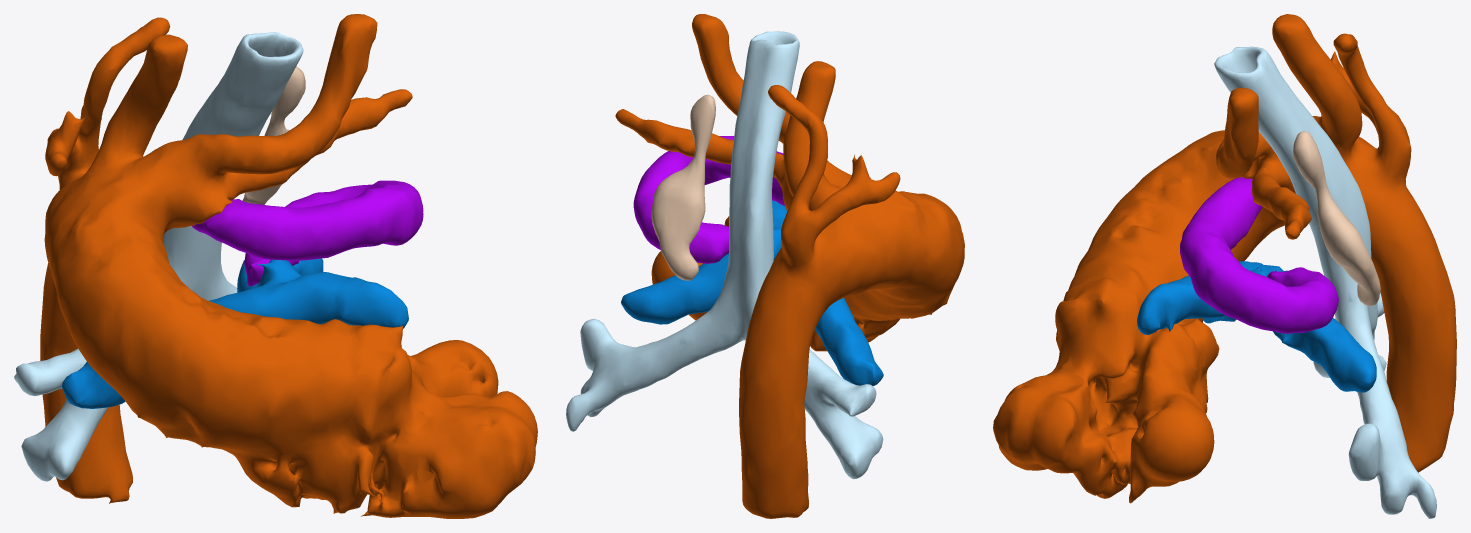
The model's file is RAA type1.gltf.
3 renders of one model, left to right at view 1: azimuth 30°, elevation 25°; view 2: azimuth 150°, elevation 25°; view 3: azimuth 270°, elevation 25°, orthographic. The views are drawn at different scales.
Parts seen in each view (by area): view 1: aorta, trachea, pda, pa, esophagus; view 2: aorta, trachea, pa, esophagus, pda; view 3: aorta, trachea, pda, pa, esophagus.
Boxes of the visible parts, x1,y1,x2,y2 form: aorta: (40, 14, 537, 518); trachea: (14, 32, 303, 481); pda: (192, 180, 423, 286); pa: (62, 258, 408, 408); esophagus: (242, 66, 305, 204); aorta: (615, 14, 964, 518); trachea: (566, 31, 883, 479); pa: (621, 200, 883, 385); esophagus: (651, 94, 715, 280); pda: (633, 136, 784, 263); aorta: (993, 14, 1456, 503); trachea: (1214, 46, 1436, 518); pda: (1180, 177, 1339, 333); pa: (1137, 261, 1376, 392); esophagus: (1293, 131, 1380, 306).
Size of the model in its own units: 33.76 by 41.13 by 38.22.
